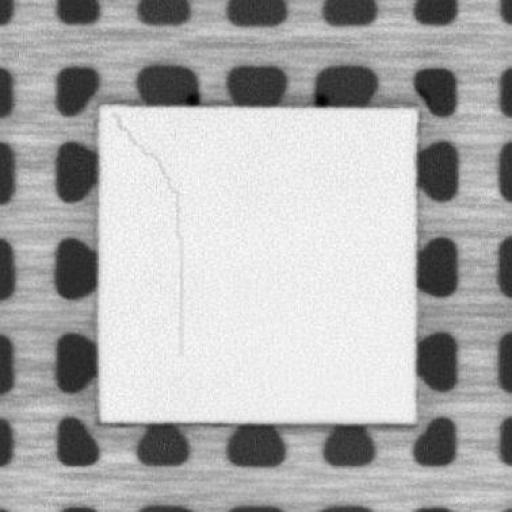DIE_CRACK: (112, 113, 184, 354)
